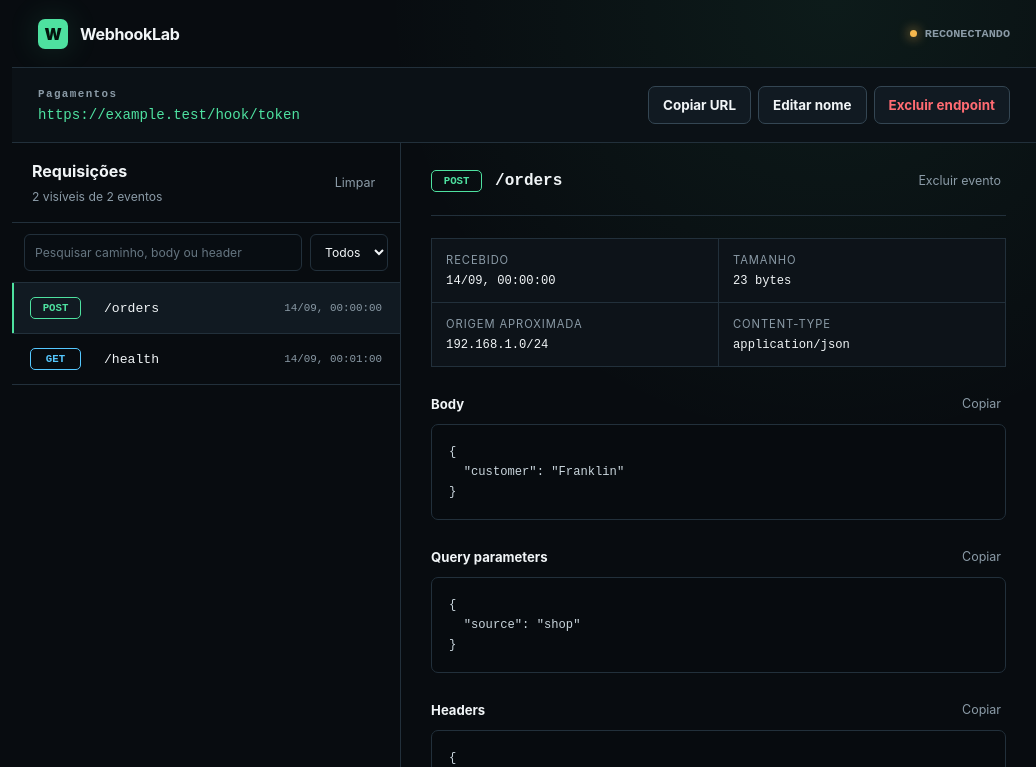
Test: InboxDashboard › pesquisa, filtra por método e atualiza a contagem
Expected: the text "Pagamentos" is shown, [38,88,117,100]
Expected: the text "2 visíveis de 2 eventos" is shown, [32,188,162,204]
Type "Franklin" into the search field named "Pesquisar requisições" at (163, 252), box [24,234,302,271]
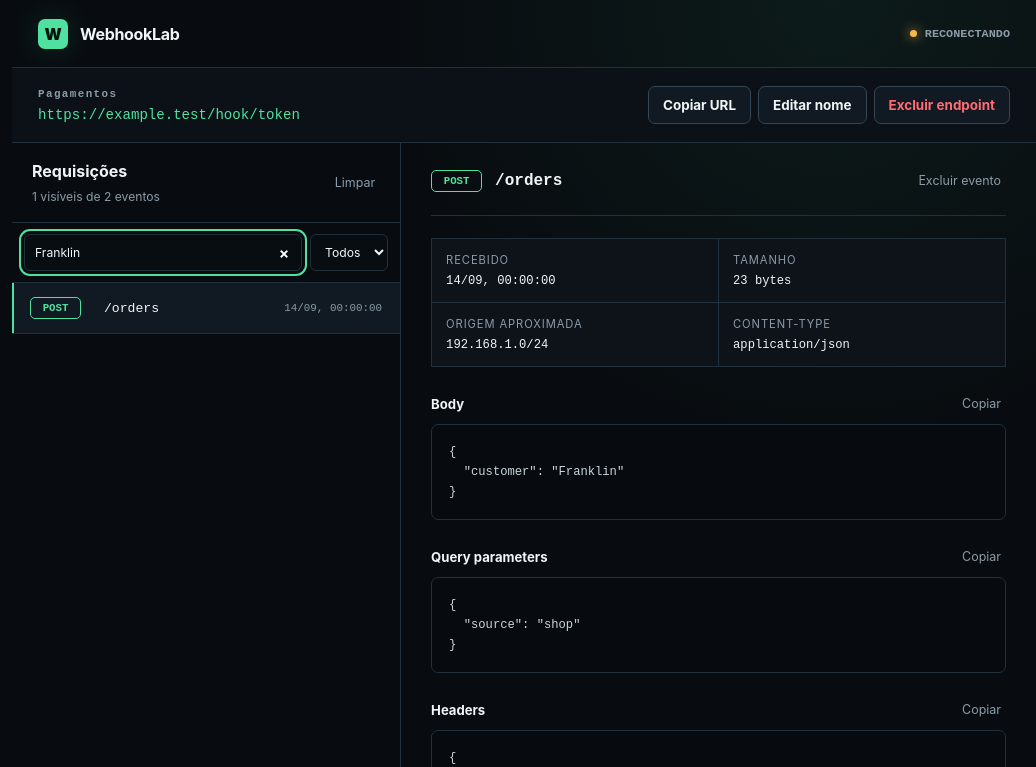
Expected: the text "/orders" is shown, [104,300,159,316]
Now the text "1 visíveis de 2 eventos" is shown, box [32,188,160,204]
Clear the search field named "Pesquisar requisições" at (163, 252), box [24,234,302,271]
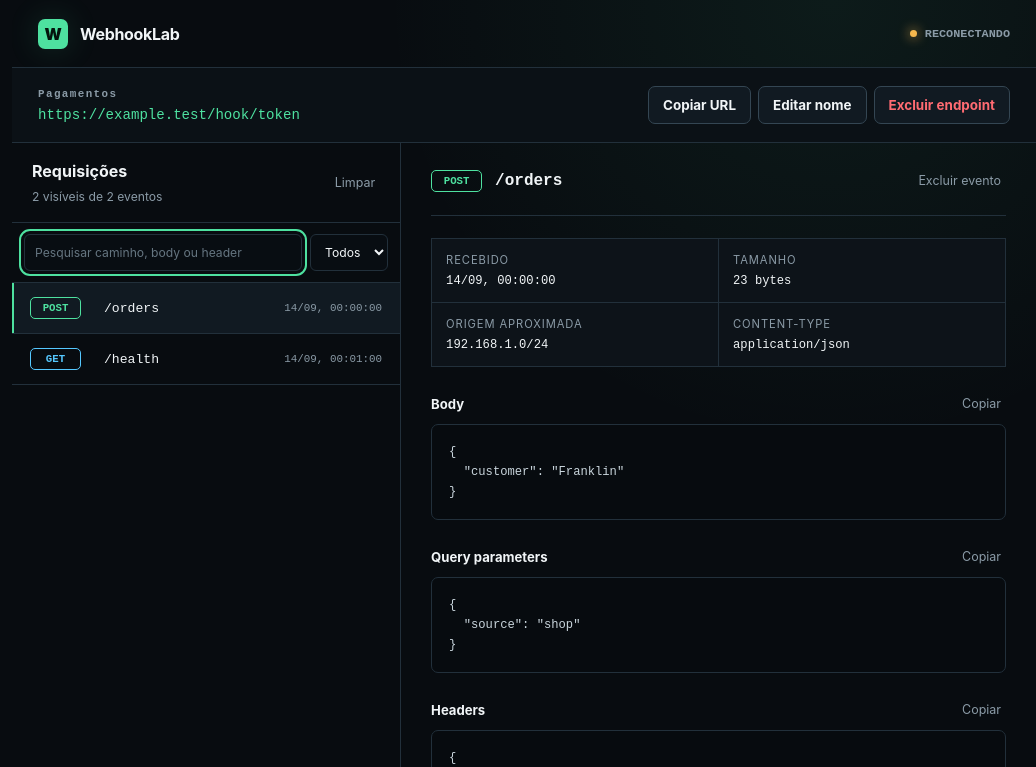
Select "GET" in the dropdown named "Filtrar por método" at (349, 252), box [310,234,388,271]
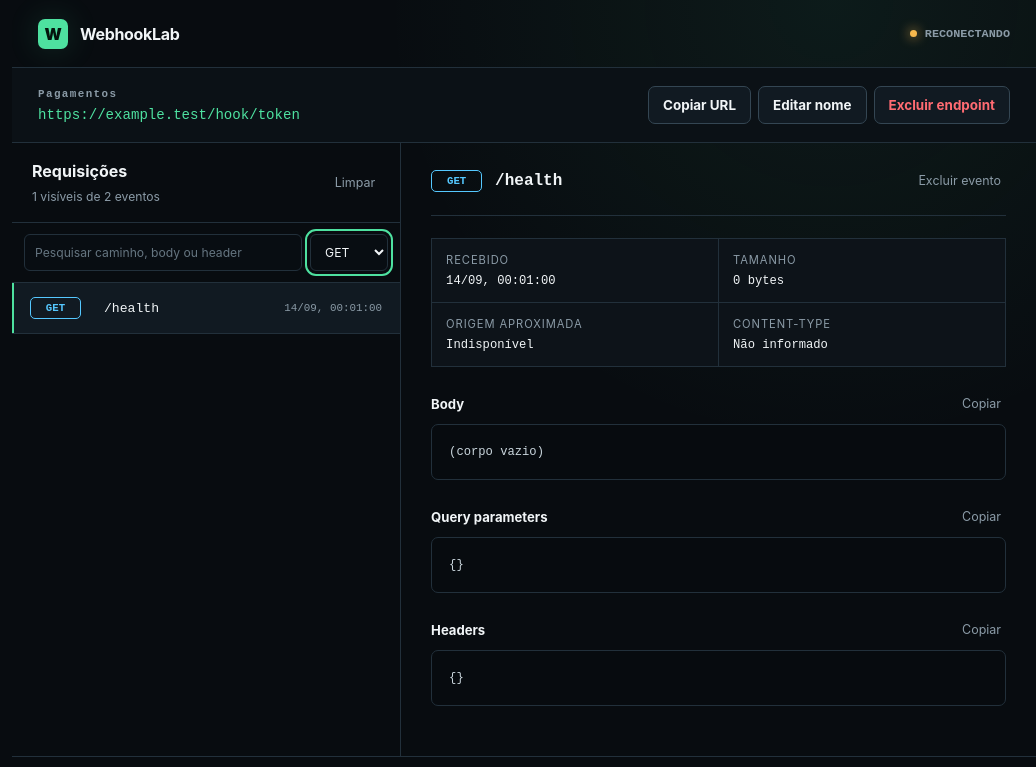
Now the text "/health" is shown, box [104,300,159,316]
Now the text "1 visíveis de 2 eventos" is shown, box [32,188,160,204]
Now the button "/orders" is gone
